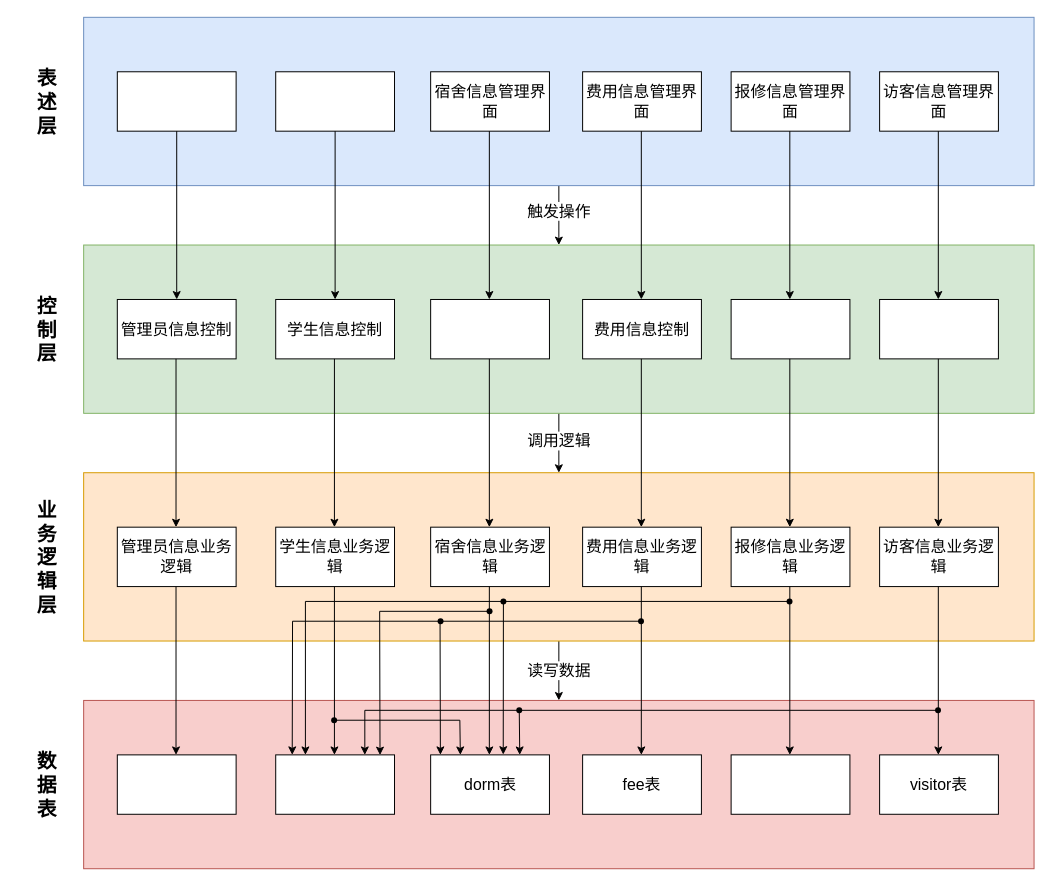
Image size: 1051x886. Some labels were removed from this diagram. Here are the shapes that lost their labels. From the top down, the box of each, then its label:
(116, 71, 236, 131): 管理员登录界面
(275, 71, 395, 131): 学生信息管理界面
(430, 298, 549, 359): 宿舍信息控制
(730, 298, 850, 359): 报修信息控制
(879, 298, 998, 359): 访客信息控制
(116, 754, 236, 814): admin表
(275, 754, 395, 814): student表
(730, 754, 850, 814): repair表
